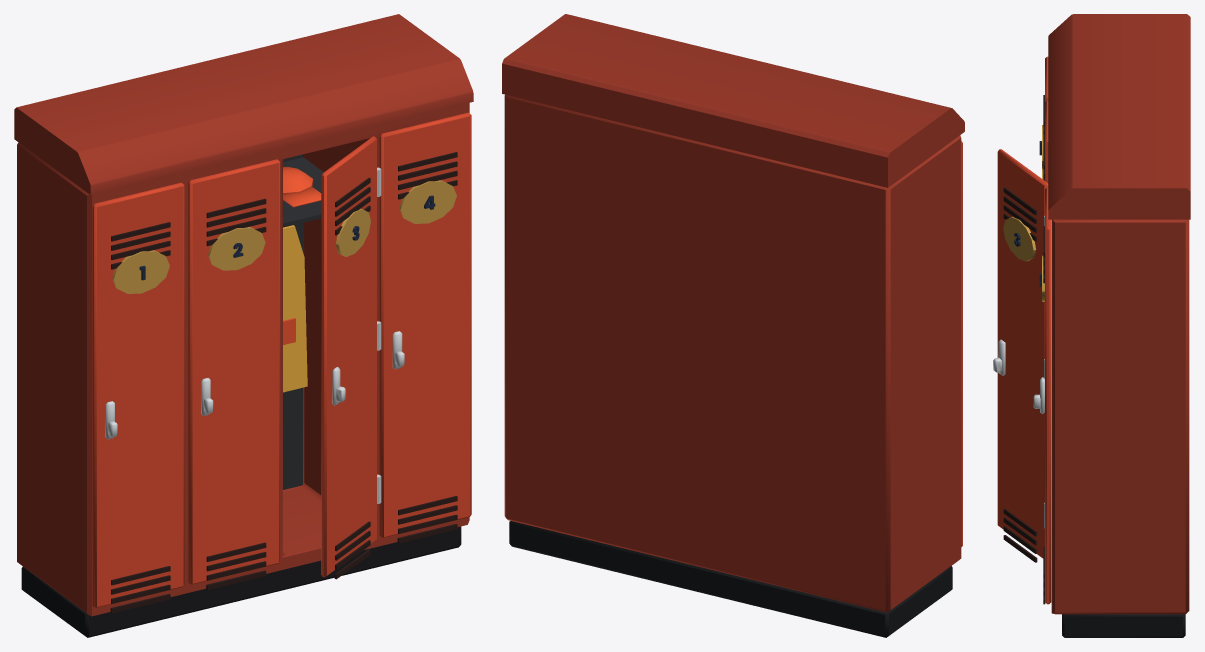
The model's file is Lobby_LockerBank.fbx.
The picture shows the model from 3 angles, left to right: view 1: azimuth 30°, elevation 25°; view 2: azimuth 150°, elevation 25°; view 3: azimuth 270°, elevation 25°; orthographic projection. The views are drawn at different scales.
Parts seen in each view (by area): view 1: Doors, Carcass, Vents, Plinth, Tags, Interior, Apron, Chrome, Cap; view 2: Carcass, Plinth, Doors; view 3: Carcass, Doors, Plinth, Vents, Tags, Chrome.
Boxes of the visible parts, <box> form: Doors: <box>92,112,471,608</box>; Carcass: <box>14,14,473,616</box>; Vents: <box>110,152,457,613</box>; Plinth: <box>21,526,461,637</box>; Tags: <box>112,180,456,293</box>; Interior: <box>283,154,323,489</box>; Apron: <box>283,225,307,392</box>; Chrome: <box>105,167,404,503</box>; Cap: <box>283,167,321,207</box>; Carcass: <box>502,14,964,612</box>; Plinth: <box>509,521,952,637</box>; Doors: <box>961,141,962,546</box>; Carcass: <box>1048,14,1190,614</box>; Doors: <box>997,56,1051,604</box>; Plinth: <box>1062,614,1185,637</box>; Vents: <box>1003,95,1045,604</box>; Tags: <box>1003,125,1044,301</box>; Chrome: <box>993,216,1044,528</box>.
Size of the model in its own units: 600 by 725 by 287.
